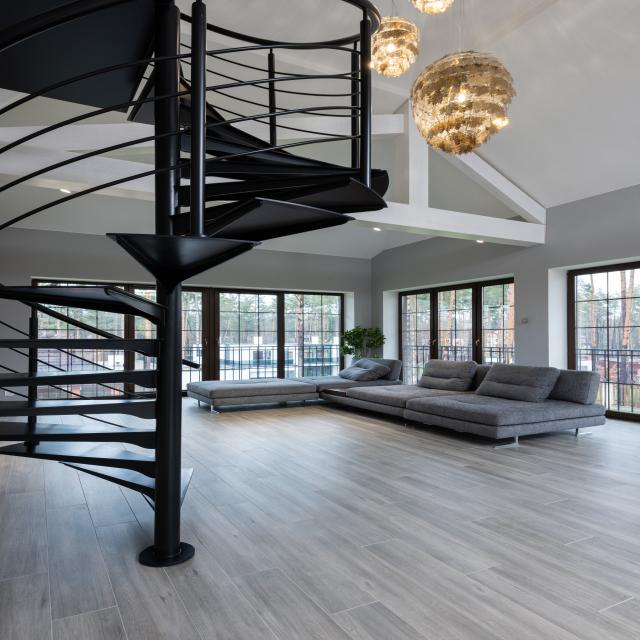floor: (0, 396, 640, 640), (36, 415, 122, 428), (83, 414, 156, 429), (0, 416, 28, 423)
wall: (371, 184, 640, 367), (181, 248, 371, 329), (0, 227, 156, 286), (0, 298, 32, 335), (0, 348, 29, 373), (0, 323, 29, 339), (0, 388, 28, 401), (3, 387, 29, 396), (12, 348, 29, 355), (0, 367, 15, 373)
